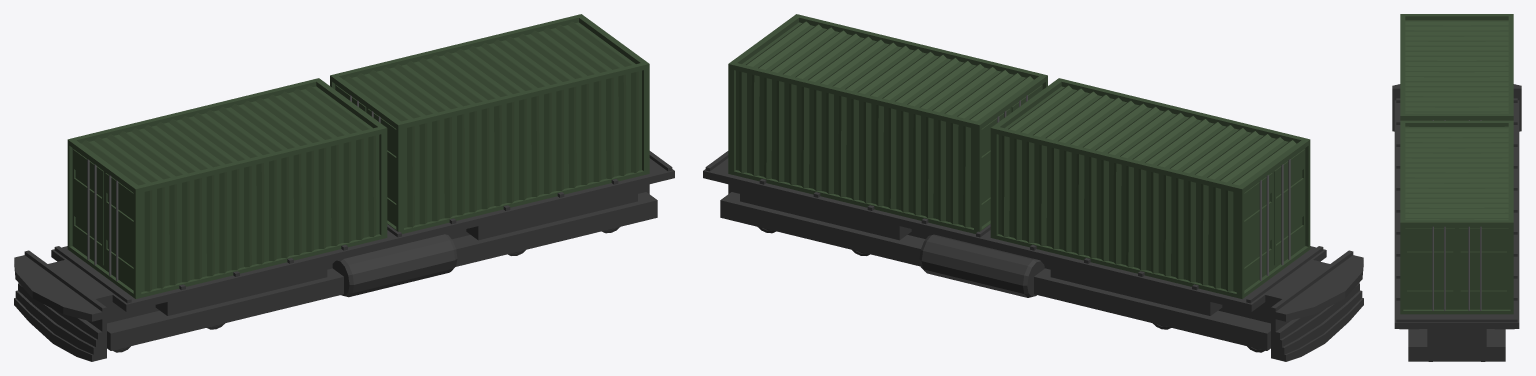
Rendered from quaternius-train-pack-april-cargotrain-container.glb.
3 renders of one model, left to right at view 1: azimuth 30°, elevation 25°; view 2: azimuth 150°, elevation 25°; view 3: azimuth 270°, elevation 25°, orthographic. The views are drawn at different scales.
Parts seen in each view (by area): view 1: Wagon_Container; view 2: Wagon_Container; view 3: Wagon_Container.
Boxes of the visible parts, x1=… form: Wagon_Container: x1=14, y1=14, x2=674, y2=361; Wagon_Container: x1=703, y1=14, x2=1363, y2=361; Wagon_Container: x1=1392, y1=14, x2=1521, y2=361.
Size of the model in its own units: 9.26 by 2.58 by 2.06.
